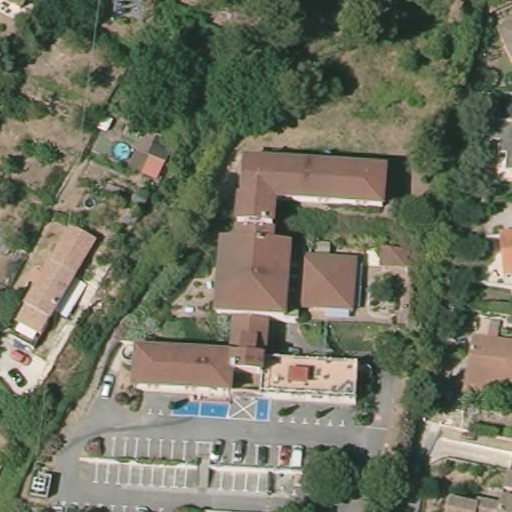pool: (106, 140, 135, 162)
